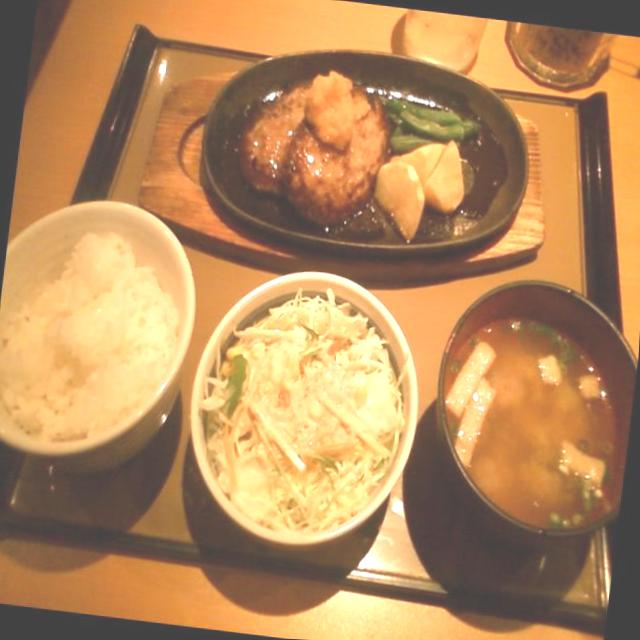Rice: (0, 222, 180, 446)
